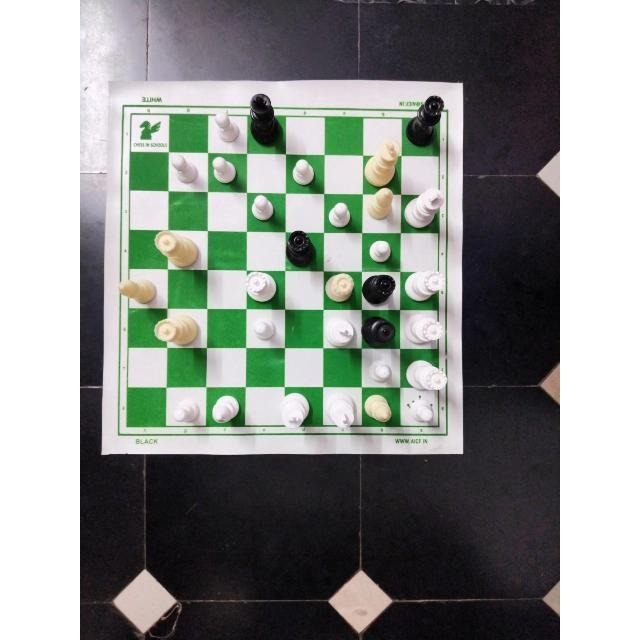black-king: (249, 91, 283, 146)
black-queen: (406, 95, 444, 147), (285, 227, 316, 264), (361, 315, 395, 347), (364, 275, 396, 305)
white-bishop: (118, 277, 160, 304), (210, 394, 241, 424), (366, 187, 393, 221), (364, 393, 392, 424)
white-king: (364, 137, 402, 186), (404, 188, 444, 228), (323, 392, 359, 432), (279, 392, 311, 431), (324, 315, 355, 347)
white-pawn: (169, 154, 200, 187), (210, 154, 242, 183), (214, 110, 242, 143), (327, 201, 357, 231), (290, 155, 318, 186), (171, 396, 200, 424), (408, 396, 436, 424), (248, 194, 278, 220), (252, 315, 278, 343), (367, 237, 392, 265), (366, 358, 393, 383)
white-queen: (152, 230, 202, 269), (153, 313, 200, 346), (404, 358, 448, 392), (403, 312, 445, 346), (402, 271, 446, 303), (245, 271, 279, 305), (323, 271, 355, 303)
